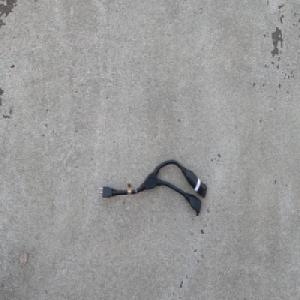Wire: (97, 158, 207, 216)
